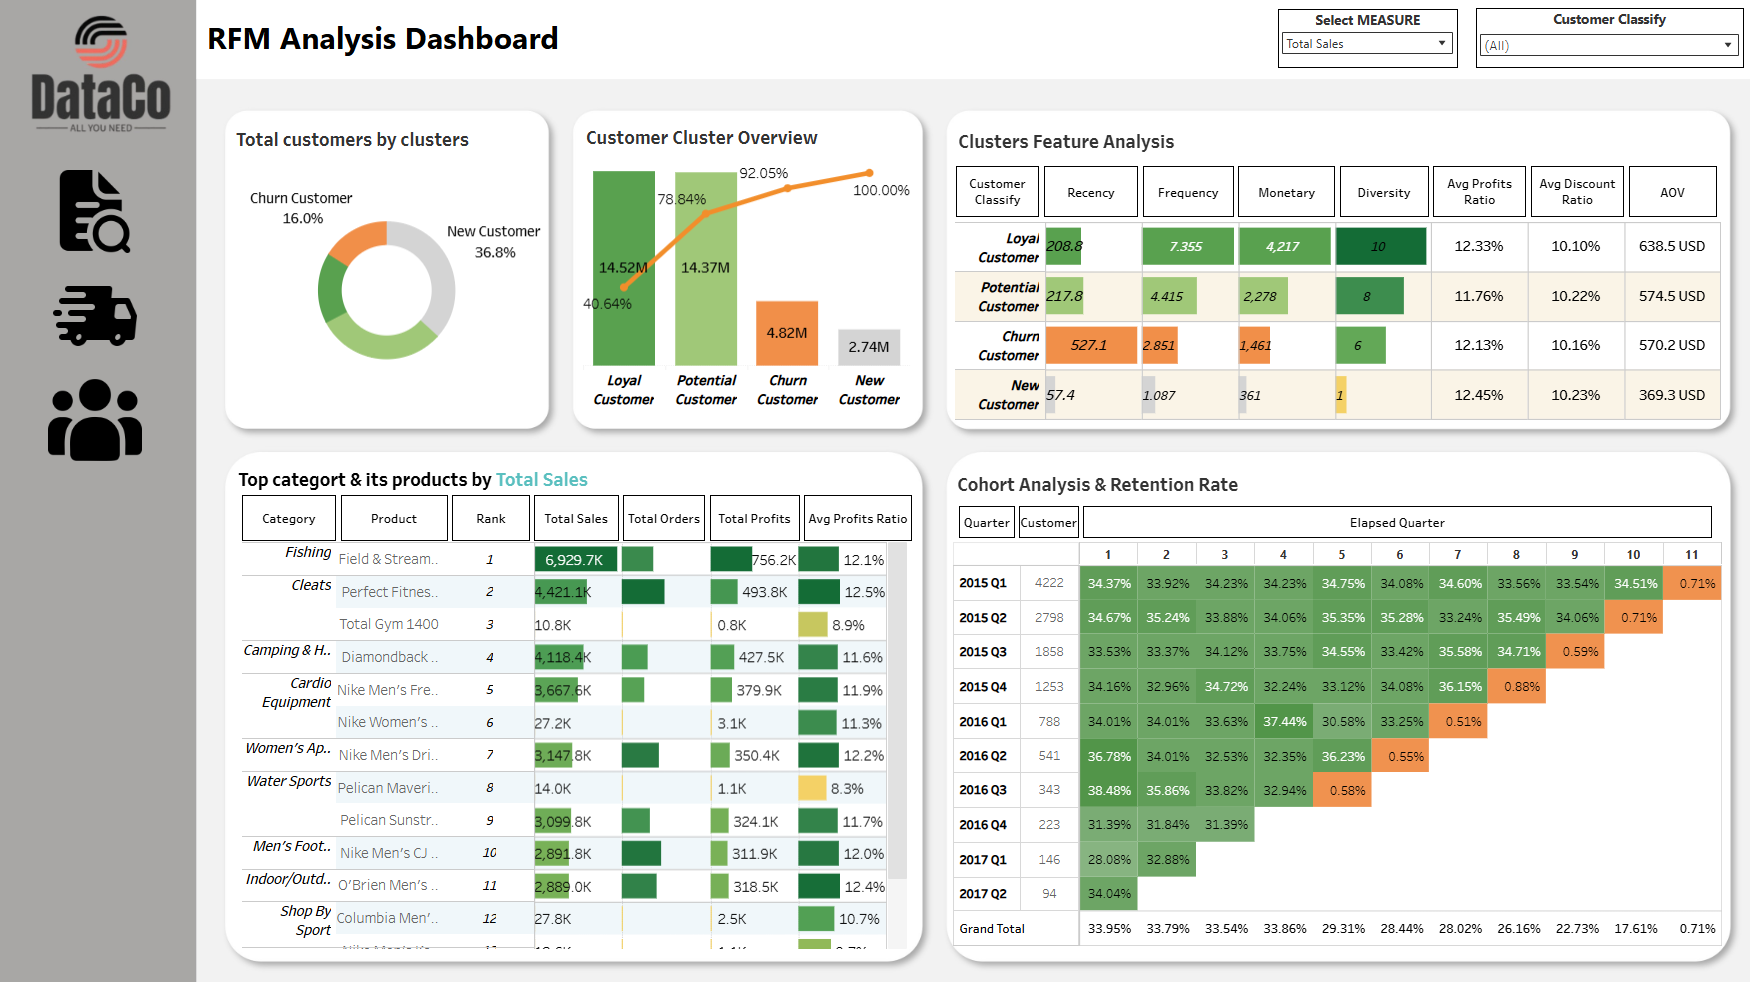

Layout of this report page (visuals, bound fields, positions):
{"tool":"tableau","page":{"name":"CUSTOMER SEGMENT dashboard","canvas":[1600,900],"ordinal":0},"visuals":[{"type":"image","param":"D:/Năm 3/Kì 2/Trực quan hóa DL/BT Nhóm/Final/Template Customer.jpg","box":[8,8,1584,884]},{"type":"parameter","param":"[Parameters].[Year PARAMETER (copy)_1693916422487871500]","box":[1152,21,160,52]},{"type":"filter","title":"Cluster: Category ","param":"[federated.1q7cowo1s3advo10dbl711lnegs0].[none:Customer Classify:nk]","box":[1334,21,238,53]},{"type":"text","box":[206,24,520,44]},{"type":"worksheet","title":"Cluster: Contribution to SALES","mark":"Automatic","rows":["Calculation_1693916422482386944","Calculation_945755934481539095"],"cols":["Customer Classify"],"box":[539,118,293,271]},{"type":"worksheet","title":"Cluster: Pie chart","mark":"Pie","rows":["Calculation_345651284389093429","Calculation_345651284389101623"],"box":[228,119,275,267]},{"type":"text","box":[874,123,671,31]},{"type":"text","box":[870,159,78,50]},{"type":"text","box":[948,159,88,50]},{"type":"text","box":[1036,159,85,50]},{"type":"text","box":[1121,159,90,50]},{"type":"text","box":[1211,159,83,50]},{"type":"text","box":[1294,159,87,50]},{"type":"text","box":[1381,159,87,50]},{"type":"text","box":[1468,159,82,50]},{"type":"dashboard-object","box":[61,179,111,92.3]},{"type":"worksheet","title":"Cluster: Behavior Analysis","mark":"Automatic","rows":["Customer Classify"],"cols":["Recency","Frequency","Monetary","Diversity","Calculation_945755934484942884","Calculation_945755934484959271","Calculation_945755934484959271"],"box":[871,211,682,176]},{"type":"dashboard-object","box":[61,271.3,111,92.3]},{"type":"dashboard-object","box":[61,363.7,111,92.3]},{"type":"text","box":[234,424,596,31]},{"type":"text","box":[873,428,671,31]},{"type":"text","box":[235,452,88,45]},{"type":"text","box":[323,452,99,45]},{"type":"text","box":[422,452,73,45]},{"type":"text","box":[495,452,79,45]},{"type":"text","box":[574,452,77,45]},{"type":"text","box":[651,452,84,45]},{"type":"text","box":[735,452,100,45]},{"type":"text","box":[873,462,53,32]},{"type":"text","box":[926,462,57,32]},{"type":"text","box":[983,462,563,32]},{"type":"worksheet","title":"Cluster: Category ","mark":"Automatic","rows":["Category Name","Product Name","Calculation_345651284363919404"],"cols":["Calculation_1693916422482386944","Calculation_1693916422482567170","Calculation_1693916422482505729","Calculation_1693916422482706436"],"box":[237,496,592,361]},{"type":"worksheet","title":"Cluster: Cohort Analysis","mark":"Automatic","rows":["Calculation_345651284327469062","Calculation_345651284327890952"],"cols":["Calculation_345651284329037836"],"box":[869,496,684,359]}]}

Visuals, with their boxes in screenshot pixels (x1, y1, x2, y2), scaled from the page's 1600x900 canvas onto the 1750x982 screenshot:
image: rect(9, 9, 1741, 973)
parameter: rect(1260, 23, 1435, 80)
"Cluster: Category " filter: rect(1459, 23, 1719, 81)
text: rect(225, 26, 794, 74)
"Cluster: Contribution to SALES" worksheet: rect(590, 129, 910, 424)
"Cluster: Pie chart" worksheet (Pie marks): rect(249, 130, 550, 421)
text: rect(956, 134, 1690, 168)
text: rect(952, 173, 1037, 228)
text: rect(1037, 173, 1133, 228)
text: rect(1133, 173, 1226, 228)
text: rect(1226, 173, 1325, 228)
text: rect(1325, 173, 1415, 228)
text: rect(1415, 173, 1510, 228)
text: rect(1510, 173, 1606, 228)
text: rect(1606, 173, 1695, 228)
dashboard-object: rect(67, 195, 188, 296)
"Cluster: Behavior Analysis" worksheet: rect(953, 230, 1699, 422)
dashboard-object: rect(67, 296, 188, 397)
dashboard-object: rect(67, 397, 188, 498)
text: rect(256, 463, 908, 496)
text: rect(955, 467, 1689, 501)
text: rect(257, 493, 353, 542)
text: rect(353, 493, 462, 542)
text: rect(462, 493, 541, 542)
text: rect(541, 493, 628, 542)
text: rect(628, 493, 712, 542)
text: rect(712, 493, 804, 542)
text: rect(804, 493, 913, 542)
text: rect(955, 504, 1013, 539)
text: rect(1013, 504, 1075, 539)
text: rect(1075, 504, 1691, 539)
"Cluster: Category " worksheet: rect(259, 541, 907, 935)
"Cluster: Cohort Analysis" worksheet: rect(950, 541, 1699, 933)
